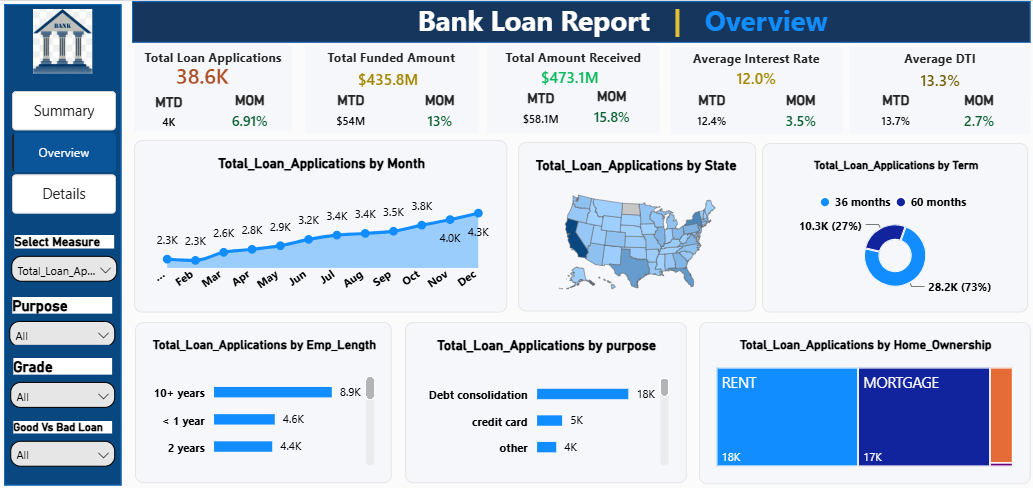

The dashboard page shown, as its layout file describes it:
{"tool":"powerbi","page":{"name":"Overview","canvas":[1000,470],"ordinal":1},"visuals":[{"type":"shape","box":[128.9,0,863.9,40.2],"z":0},{"type":"textbox","box":[131,43,152,82],"z":0,"group":"g1"},{"type":"textbox","box":[295,43,166,84],"z":0,"group":"g3"},{"type":"textbox","box":[470,43,166,84],"z":0,"group":"g2"},{"type":"textbox","box":[646,44,166,84],"z":0,"group":"g4"},{"type":"textbox","box":[819.6,44.3,173.2,83.5],"z":0,"group":"g5"},{"type":"shape","box":[6.2,3.1,113,463],"z":1000},{"type":"cardVisual","fields":{"Data":["Bank_Loan_Data.Total_Loan_Applications"]},"box":[150.9,60.9,91.2,18.9],"z":1000,"group":"g1"},{"type":"textbox","box":[382,0,438,39],"z":2000},{"type":"group","id":"g1","title":"Group 1","box":[131,43,152,82],"z":3000},{"type":"group","id":"g2","title":"Group 1","box":[470,43,166,84],"z":4000},{"type":"cardVisual","title":"MOM","fields":{"Data":["Bank_Loan_Data.MOM Funded Amount"]},"box":[371,88,72,35],"z":5000},{"type":"cardVisual","title":"MTD","fields":{"Data":["Bank_Loan_Data.MTD Amount Received"]},"box":[479,87,86,35],"z":6000},{"type":"cardVisual","fields":{"Data":["Bank_Loan_Data.Total Funded Amount"]},"box":[325,62,95,24],"z":7000},{"type":"cardVisual","title":"MOM","fields":{"Data":["Bank_Loan_Data.MOM Amount Received"]},"box":[547,85,86,35],"z":8000},{"type":"group","id":"g3","title":"Group 1","box":[295,43,166,84],"z":9000},{"type":"group","id":"g4","title":"Group 1","box":[646,44,166,84],"z":10000},{"type":"group","id":"g5","title":"Group 1","box":[819.6,44.3,173.2,83.5],"z":11000},{"type":"cardVisual","title":"MTD","fields":{"Data":["Bank_Loan_Data.MTD Funded Amount"]},"box":[296,88,86,35],"z":12000},{"type":"cardVisual","title":"MTD","fields":{"Data":["Bank_Loan_Data.MTD Average Rate"]},"box":[643,88,86,35],"z":13000},{"type":"cardVisual","title":"MTD","fields":{"Data":["Bank_Loan_Data.MTD DTI"]},"box":[820,88,86,35],"z":14000},{"type":"cardVisual","title":"MOM","fields":{"Data":["Bank_Loan_Data.MOM Avg Int Rate"]},"box":[729,88,86,35],"z":15000},{"type":"cardVisual","title":"MOM","fields":{"Data":["Bank_Loan_Data.MOM Funded Amount"]},"box":[382,88,86,35],"z":16000},{"type":"cardVisual","title":"MOM","fields":{"Data":["Bank_Loan_Data.MOM DTI"]},"box":[906,88,75,35],"z":17000},{"type":"cardVisual","fields":{"Data":["Bank_Loan_Data.Avg DTI"]},"box":[850.5,62.9,110,25],"z":18000},{"type":"cardVisual","fields":{"Data":["Bank_Loan_Data.Avg Interest Rate"]},"box":[674,61,110,25],"z":19000},{"type":"cardVisual","fields":{"Data":["Bank_Loan_Data.Total Amount Received"]},"box":[490,60,119,25],"z":20000},{"type":"slicer","fields":{"Values":["Bank_Loan_Data.Good Vs Bad Loan"]},"box":[7,404,111,51],"z":21000},{"type":"slicer","fields":{"Values":["Bank_Loan_Data.purpose"]},"box":[6,285,112,46],"z":22000},{"type":"slicer","fields":{"Values":["Bank_Loan_Data.grade"]},"box":[7,343,111,48],"z":23000},{"type":"cardVisual","title":"MTD","fields":{"Data":["Bank_Loan_Data.MTD_Loan_Applications"]},"box":[132,90,65,32],"z":24000},{"type":"cardVisual","title":"MOM","fields":{"Data":["Bank_Loan_Data.MOM Loan Applications"]},"box":[199,88,86,35],"z":25000},{"type":"image","box":[34,8,57,62],"z":26000},{"type":"areaChart","fields":{"Y":["Bank_Loan_Data.Total_Loan_Applications"],"Category":["Date_Table.Month Name"]},"box":[131,134,359,166],"z":27000},{"type":"cardVisual","fields":{"Data":["Bank_Loan_Data.Total Funded Amount"]},"box":[320,61,110,25],"z":27009,"group":"g3"},{"type":"slicer","fields":{"Values":["Parameter.Parameter"]},"box":[8,225,112,47],"z":28000},{"type":"shapeMap","fields":{"Value":["Bank_Loan_Data.Total_Loan_Applications"],"Category":["Bank_Loan_Data.address_state"]},"box":[500,136,229.2,163.3],"z":29000},{"type":"donutChart","fields":{"Y":["Bank_Loan_Data.Total_Loan_Applications"],"Category":["Bank_Loan_Data.term"]},"box":[735,137,256,163],"z":30000},{"type":"barChart","fields":{"Y":["Bank_Loan_Data.Total_Loan_Applications"],"Category":["Bank_Loan_Data.emp_length"]},"box":[131.8,308.2,247.1,155.3],"z":31000},{"type":"barChart","fields":{"Y":["Bank_Loan_Data.Total_Loan_Applications"],"Category":["Bank_Loan_Data.purpose"]},"box":[391.8,308.2,270.6,155.3],"z":32000},{"type":"treemap","fields":{"Values":["Bank_Loan_Data.Total_Loan_Applications"],"Group":["Bank_Loan_Data.home_ownership"]},"box":[674.2,308.2,318.6,155.7],"z":33000},{"type":"pageNavigator","box":[13.4,86.6,100,120.6],"z":34000}]}

Visuals, with their boxes in screenshot pixels (x1, y1, x2, y2), scaled from the page's 1000x470 canvas onto the 1033x488 screenshot:
shape: bbox(133, 0, 1026, 42)
textbox: bbox(135, 45, 292, 130)
textbox: bbox(305, 45, 476, 132)
textbox: bbox(486, 45, 657, 132)
textbox: bbox(667, 46, 839, 133)
textbox: bbox(847, 46, 1026, 133)
shape: bbox(6, 3, 123, 484)
cardVisual - Bank_Loan_Data.Total_Loan_Applications: bbox(156, 63, 250, 83)
textbox: bbox(395, 0, 847, 40)
"Group 1" group: bbox(135, 45, 292, 130)
"Group 1" group: bbox(486, 45, 657, 132)
"MOM" cardVisual: bbox(383, 91, 458, 128)
"MTD" cardVisual: bbox(495, 90, 584, 127)
cardVisual - Bank_Loan_Data.Total Funded Amount: bbox(336, 64, 434, 89)
"MOM" cardVisual: bbox(565, 88, 654, 125)
"Group 1" group: bbox(305, 45, 476, 132)
"Group 1" group: bbox(667, 46, 839, 133)
"Group 1" group: bbox(847, 46, 1026, 133)
"MTD" cardVisual: bbox(306, 91, 395, 128)
"MTD" cardVisual: bbox(664, 91, 753, 128)
"MTD" cardVisual: bbox(847, 91, 936, 128)
"MOM" cardVisual: bbox(753, 91, 842, 128)
"MOM" cardVisual: bbox(395, 91, 483, 128)
"MOM" cardVisual: bbox(936, 91, 1013, 128)
cardVisual - Bank_Loan_Data.Avg DTI: bbox(879, 65, 992, 91)
cardVisual - Bank_Loan_Data.Avg Interest Rate: bbox(696, 63, 810, 89)
cardVisual - Bank_Loan_Data.Total Amount Received: bbox(506, 62, 629, 88)
slicer - Bank_Loan_Data.Good Vs Bad Loan: bbox(7, 419, 122, 472)
slicer - Bank_Loan_Data.purpose: bbox(6, 296, 122, 344)
slicer - Bank_Loan_Data.grade: bbox(7, 356, 122, 406)
"MTD" cardVisual: bbox(136, 93, 204, 127)
"MOM" cardVisual: bbox(206, 91, 294, 128)
image: bbox(35, 8, 94, 73)
areaChart - Bank_Loan_Data.Total_Loan_Applications x Date_Table.Month Name: bbox(135, 139, 506, 311)
cardVisual - Bank_Loan_Data.Total Funded Amount: bbox(331, 63, 444, 89)
slicer - Parameter.Parameter: bbox(8, 234, 124, 282)
shapeMap - Bank_Loan_Data.Total_Loan_Applications x Bank_Loan_Data.address_state: bbox(516, 141, 753, 311)
donutChart - Bank_Loan_Data.Total_Loan_Applications x Bank_Loan_Data.term: bbox(759, 142, 1024, 311)
barChart - Bank_Loan_Data.Total_Loan_Applications x Bank_Loan_Data.emp_length: bbox(136, 320, 391, 481)
barChart - Bank_Loan_Data.Total_Loan_Applications x Bank_Loan_Data.purpose: bbox(405, 320, 684, 481)
treemap - Bank_Loan_Data.Total_Loan_Applications x Bank_Loan_Data.home_ownership: bbox(696, 320, 1026, 482)
pageNavigator: bbox(14, 90, 117, 215)
